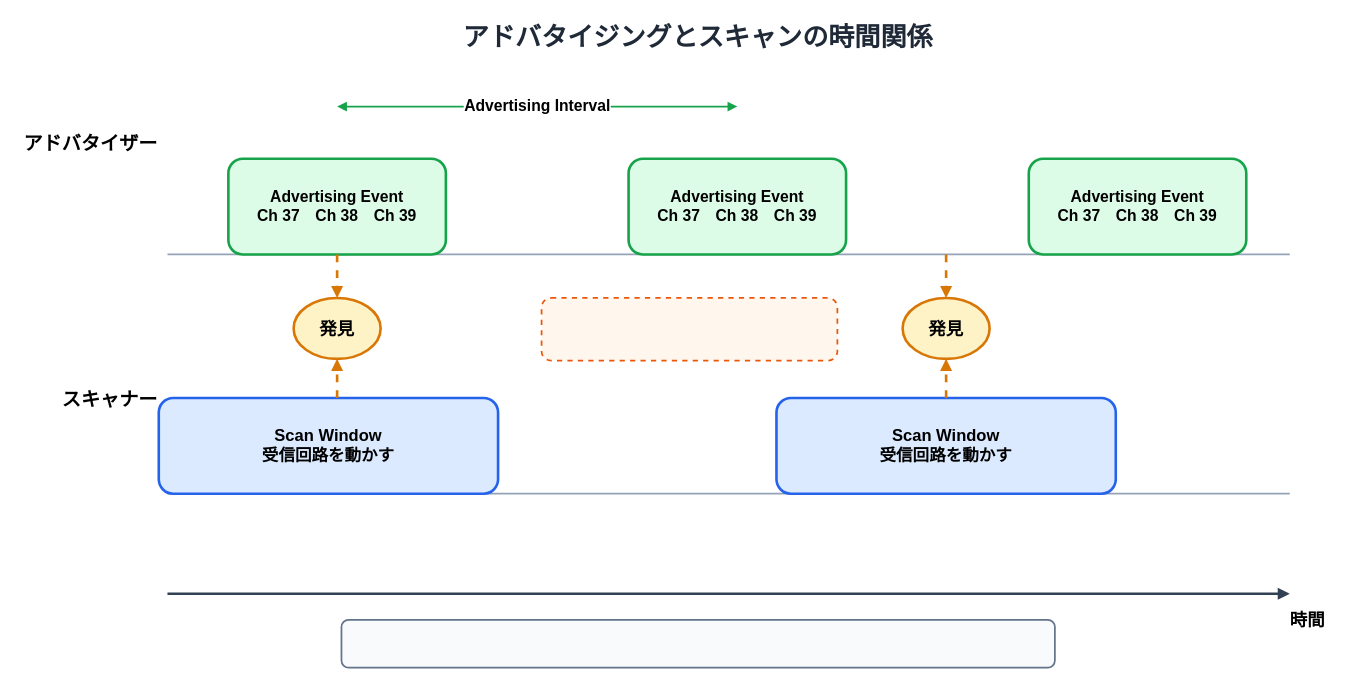
This 1365x683 diagram has some shape labels left out. Here are the shapes that lost their labels. From the top down, the centre of each, then its label:
At [689,329]: "送信時に受信していないため、 このイベントでは発見できない".
At [697,643]: "送信と受信の時間が重なると、スキャナーはアドバタイザーを発見できます".
